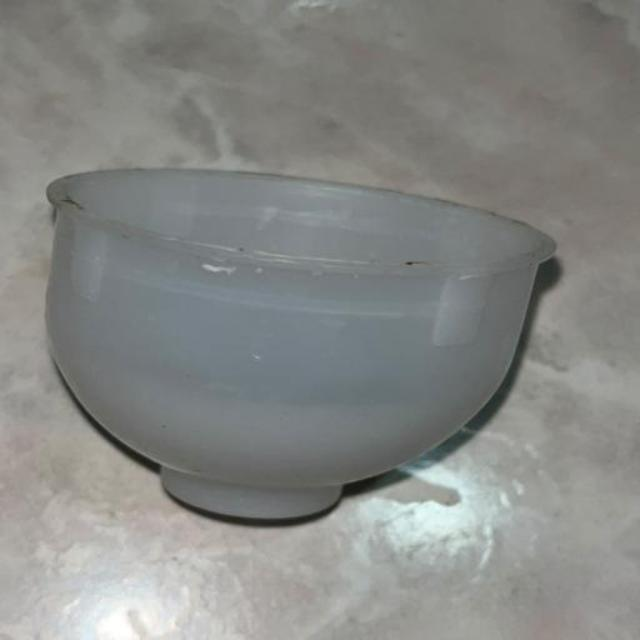PET: (2, 106, 604, 576)
